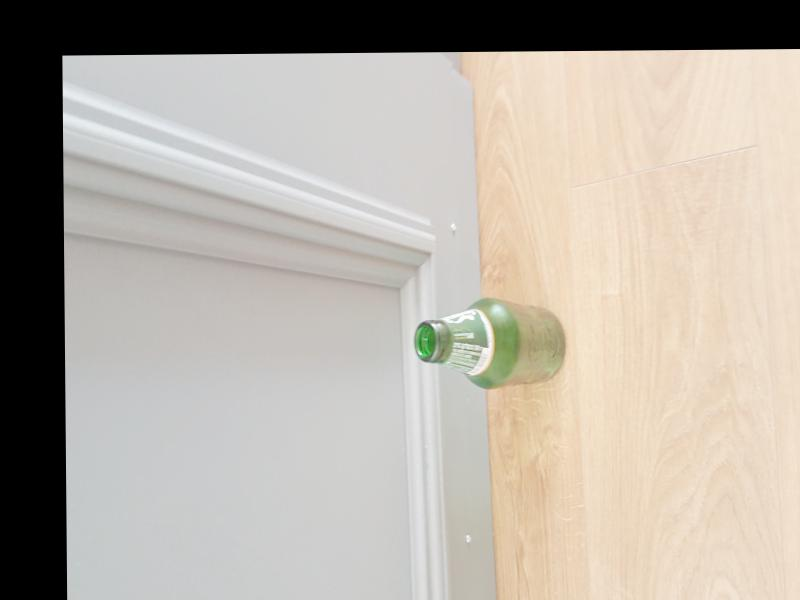Beer: (414, 297, 566, 390)
